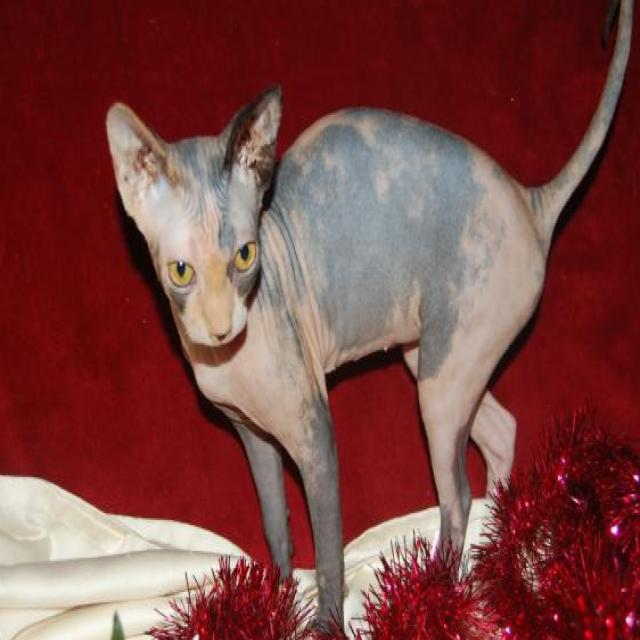Sphynx: (100, 0, 638, 640)
